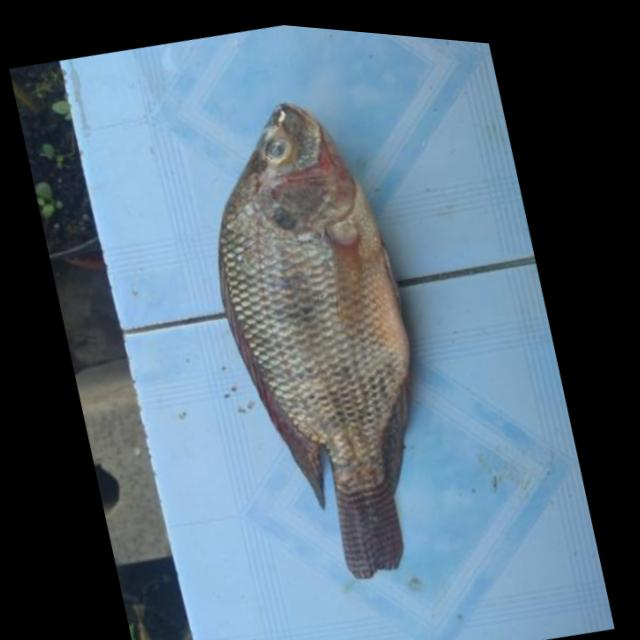Tilapia: (168, 73, 477, 610)
